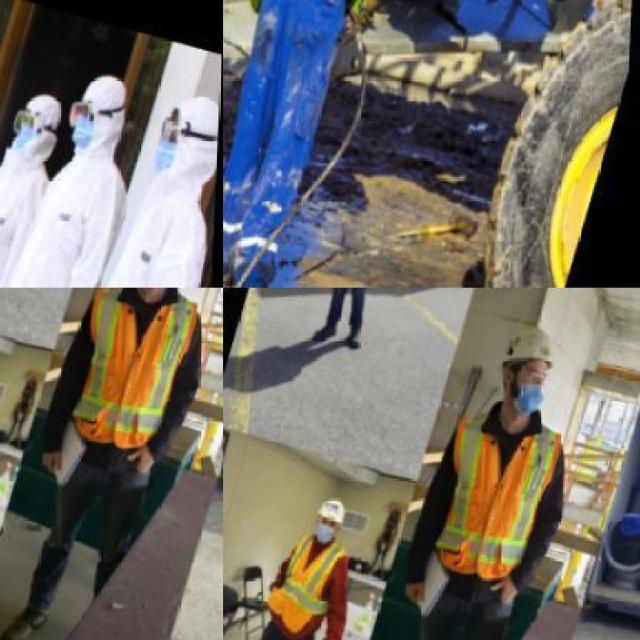Vest: (223, 0, 435, 283), (414, 398, 574, 597), (49, 288, 212, 466), (11, 172, 218, 286), (0, 142, 137, 286), (262, 526, 358, 639)
